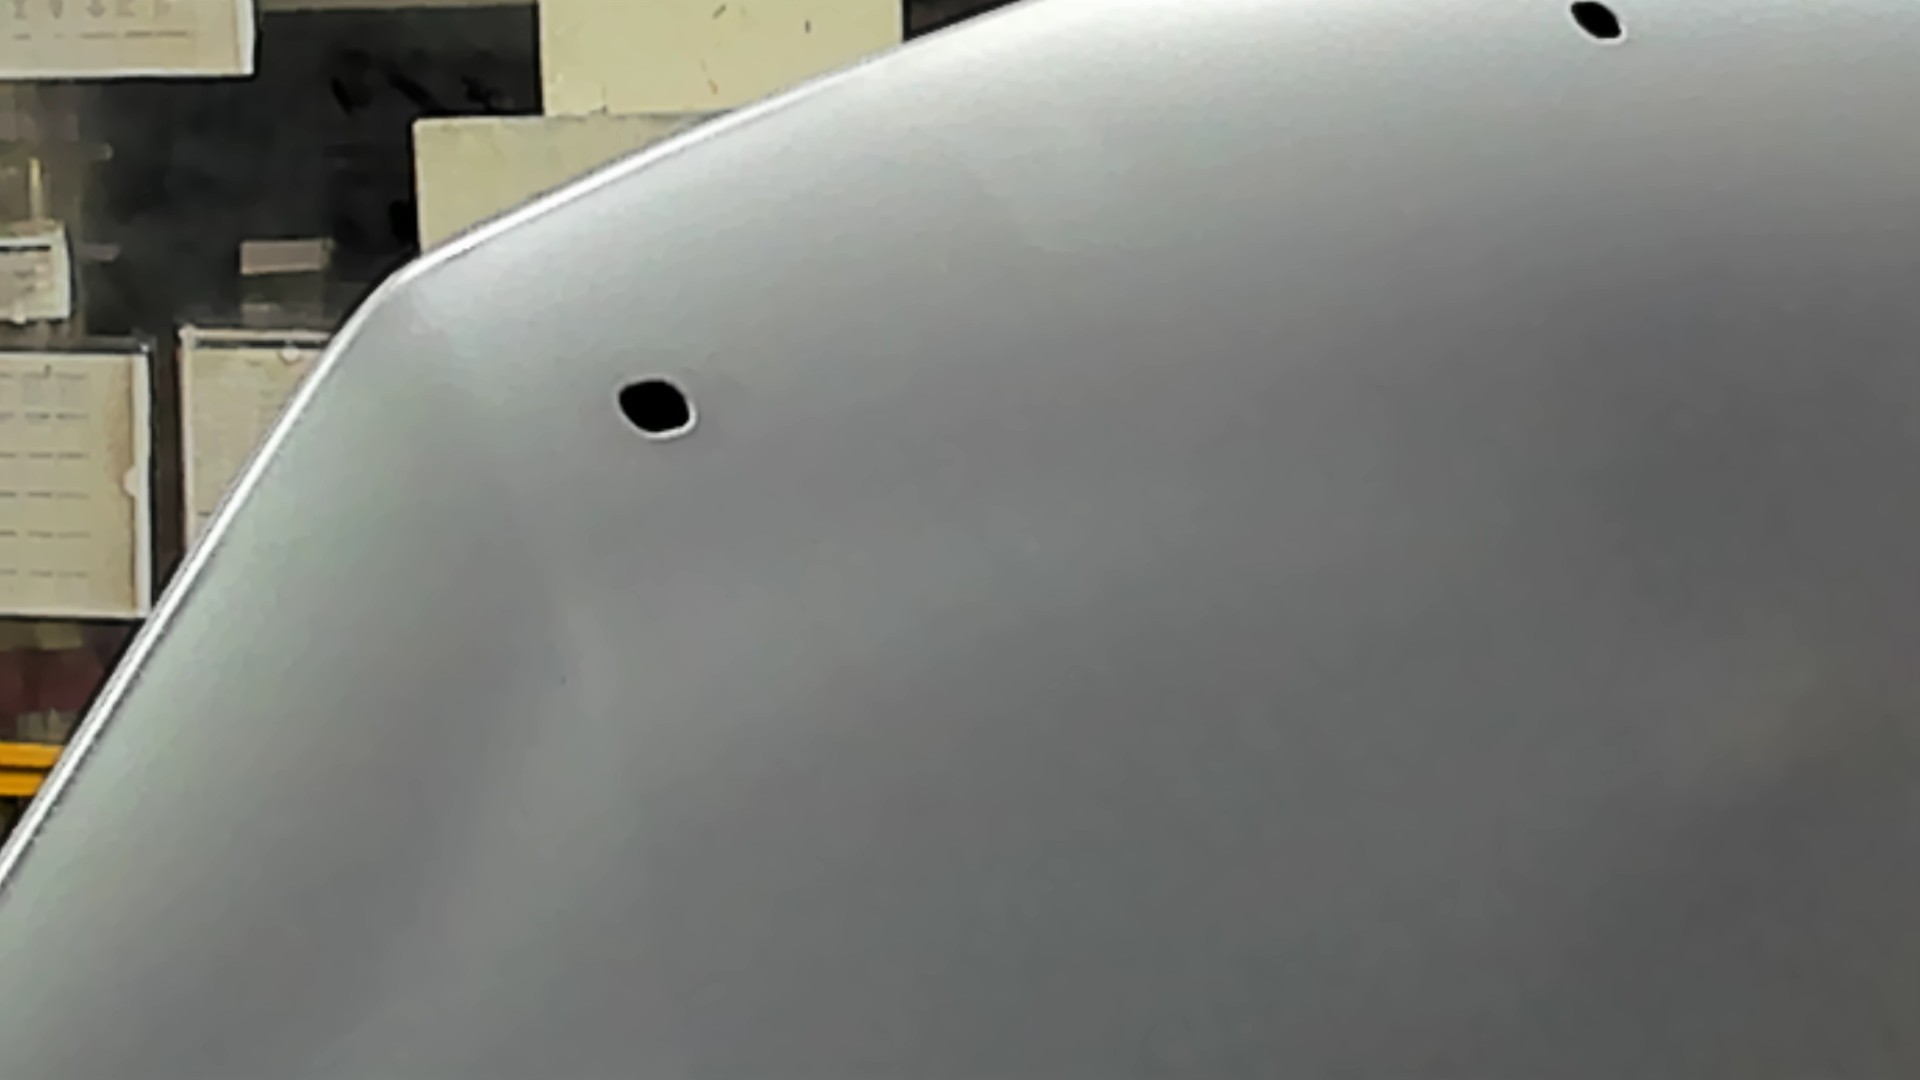amorfo: (611, 373, 702, 446), (1565, 1, 1633, 49)
capo: (825, 137, 1920, 1080)
